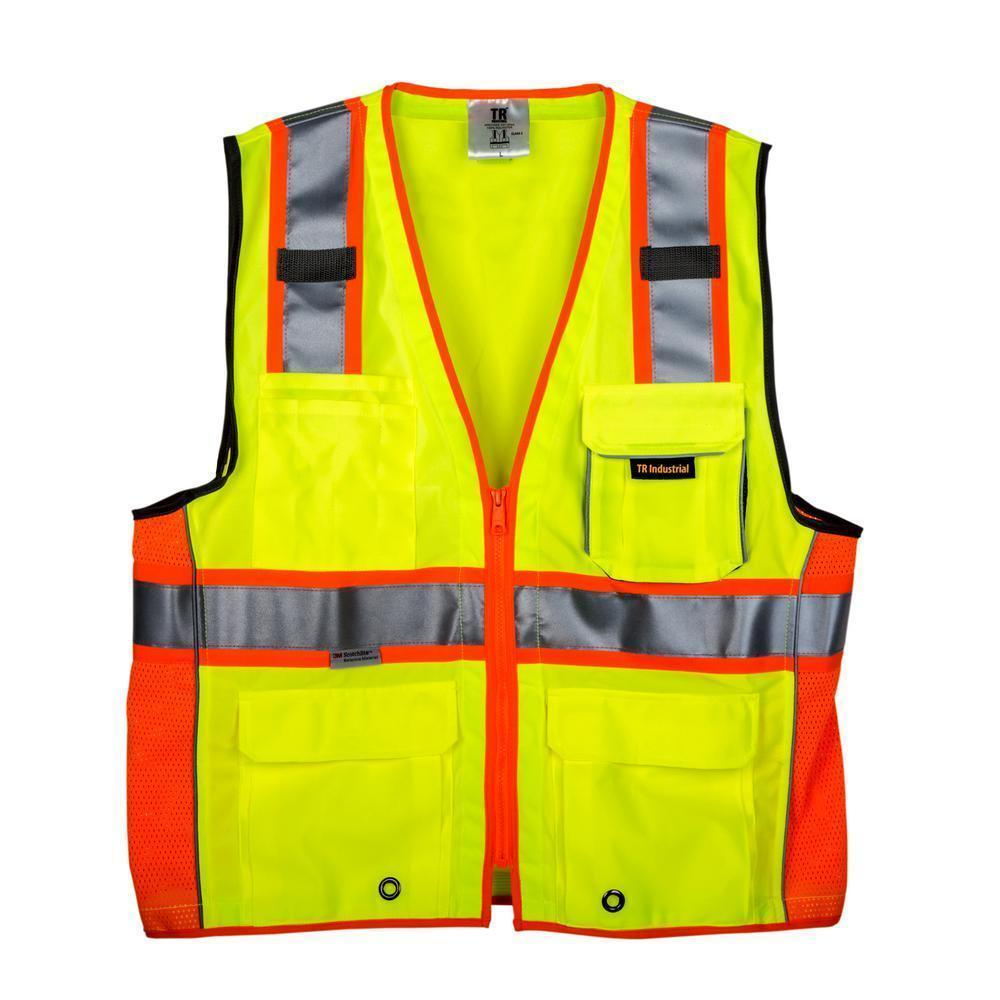Glass: (106, 61, 893, 961)
